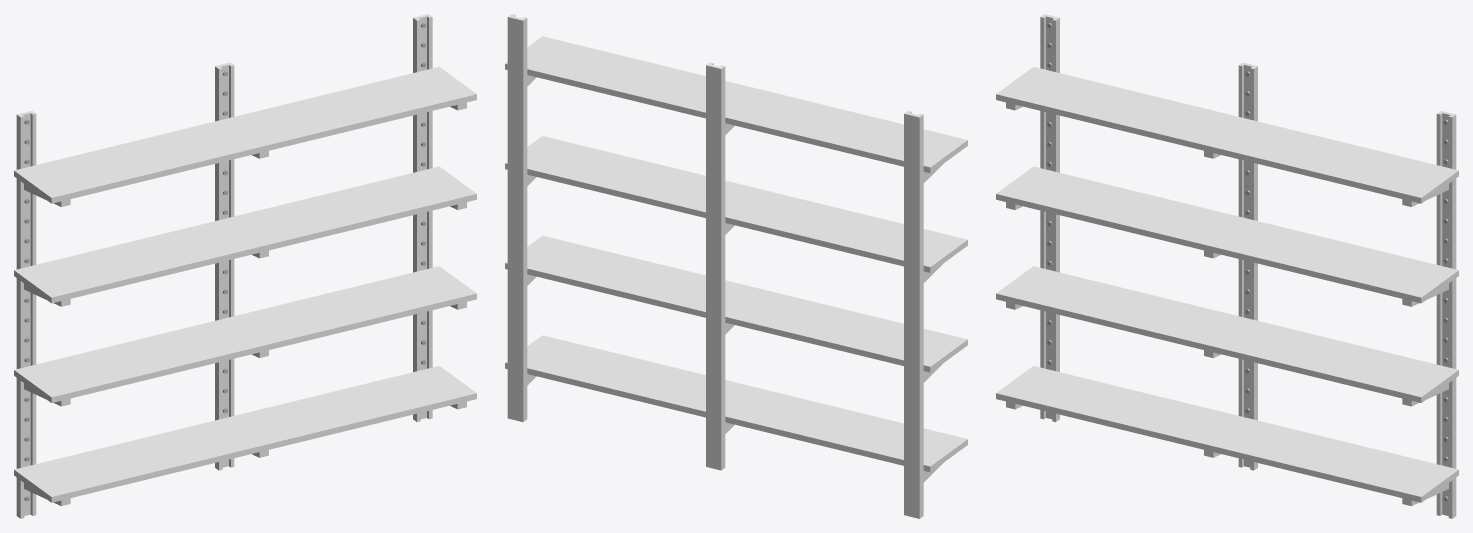
Rendered from cupboard_023.fbx.
3 views of the same model, side by side, from view 1: azimuth 30°, elevation 25°; view 2: azimuth 150°, elevation 25°; view 3: azimuth 330°, elevation 25° (orthographic).
Parts seen in each view (by area): view 1: cupboard_023; view 2: cupboard_023; view 3: cupboard_023.
Boxes of the visible parts, x1,y1,x2,y2 form: cupboard_023: (14,14,476,518); cupboard_023: (505,14,967,518); cupboard_023: (996,14,1458,518).
Bounding box in the file's own units: 265 × 44.89 × 239.
